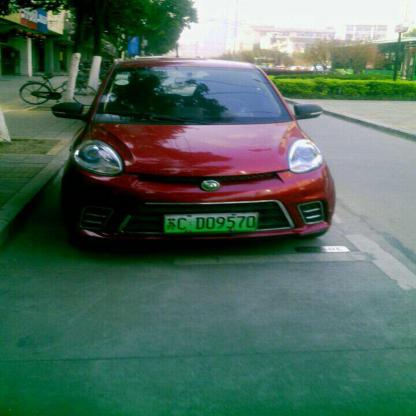lp: (163, 212, 258, 233)
